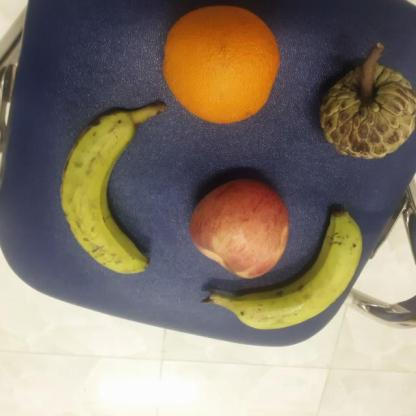annona: (318, 60, 416, 161)
apple: (185, 174, 292, 279)
banana: (58, 108, 158, 282), (236, 208, 364, 333)
orange: (161, 5, 282, 125)
